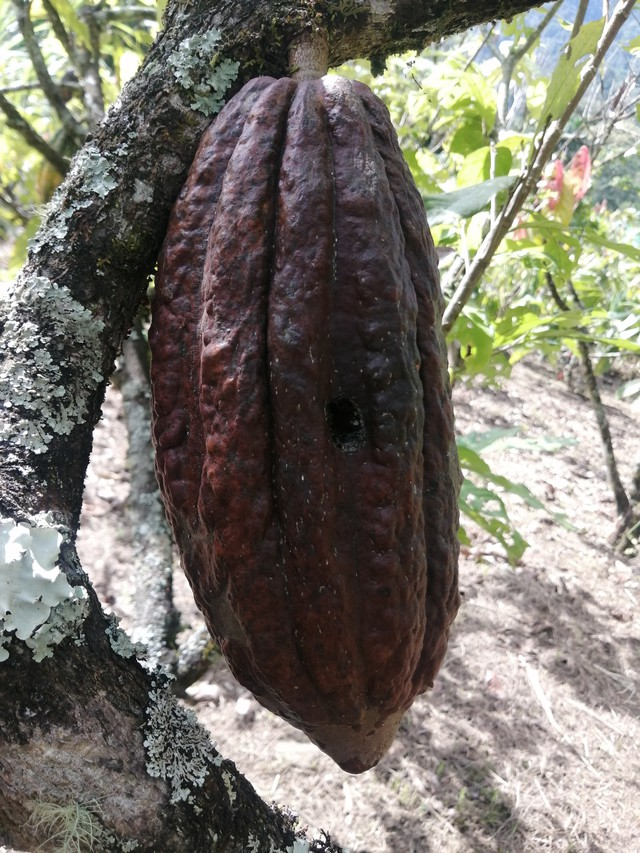carmenta foraseminis: (142, 66, 465, 777)
